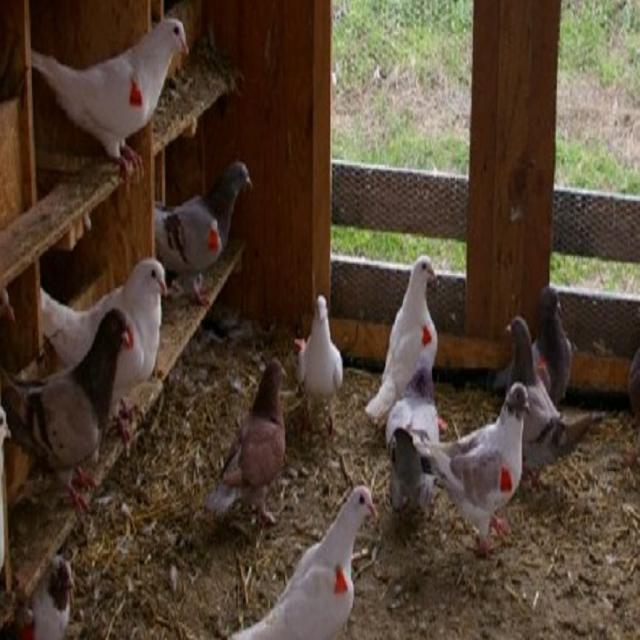pigeon: (27, 6, 200, 175), (224, 480, 384, 640), (290, 271, 356, 417)
